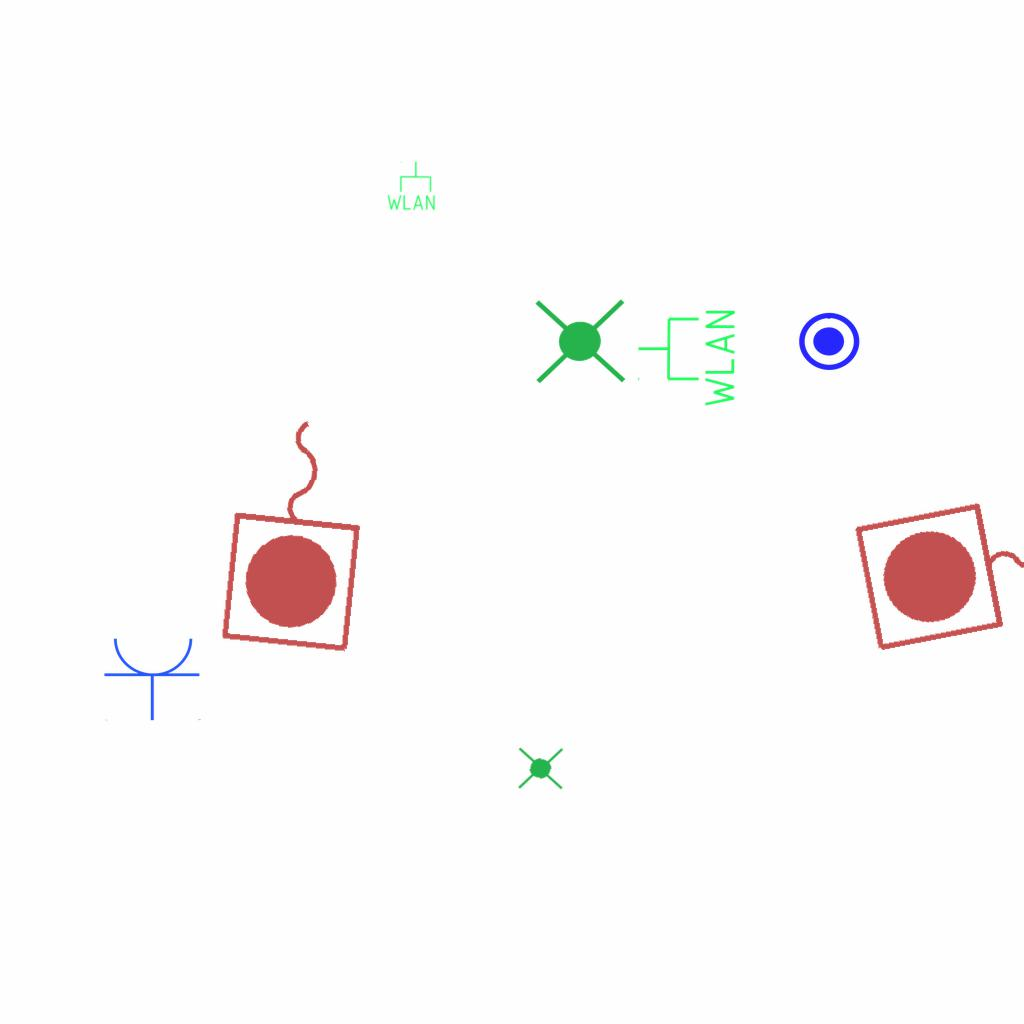Notlichtbaustein_in_Allgemeinbeleuchtug_engebaut_Einbau_(1UG_und_2UG_Aufbauvaria: (530, 291, 630, 394), (514, 742, 567, 796)
Schukosteckdose_einfach: (103, 634, 203, 721)
Taster: (796, 306, 862, 372)
WLAN: (635, 306, 739, 411), (385, 160, 437, 212)
Zugtaster: (213, 403, 383, 661), (845, 475, 1024, 663)
